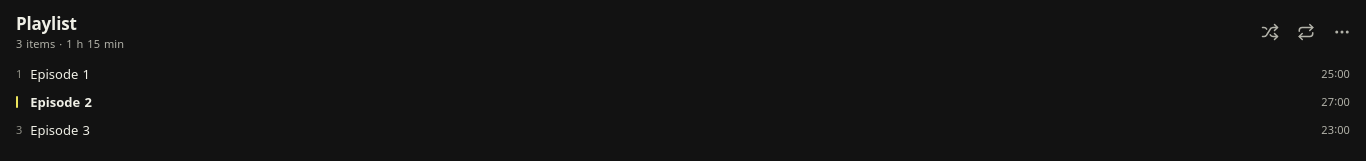
Test: the rows › play on a double-click, and only select on one
Later steps or results of the test are not shown.
Click the option "3 Episode 3 23:00" at (59, 129), box x1=8 y1=116 x2=1358 y2=144
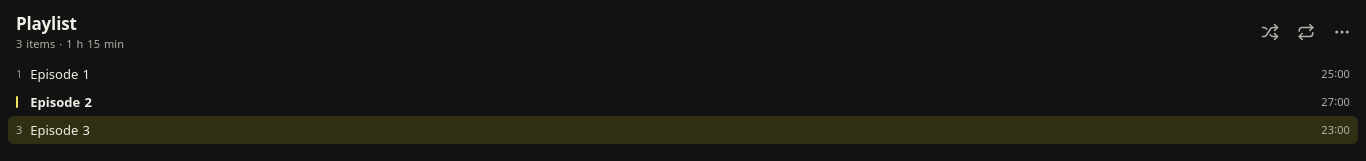
Check: the option "3 Episode 3 23:00" is selected, box x1=8 y1=116 x2=1358 y2=144
